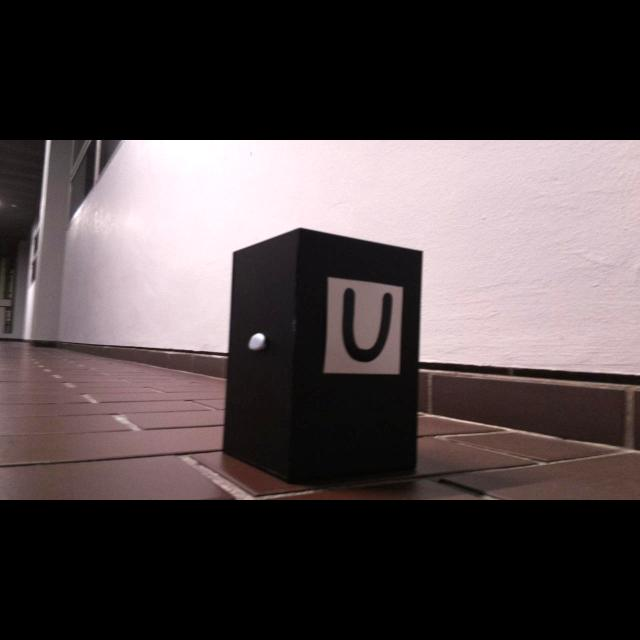U: (341, 288, 394, 364)
